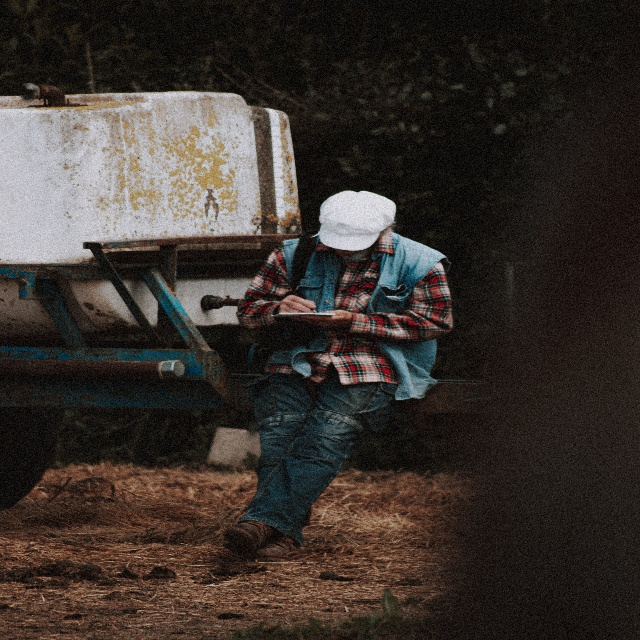Sin_guantes: (291, 310, 352, 330), (275, 294, 317, 313)
